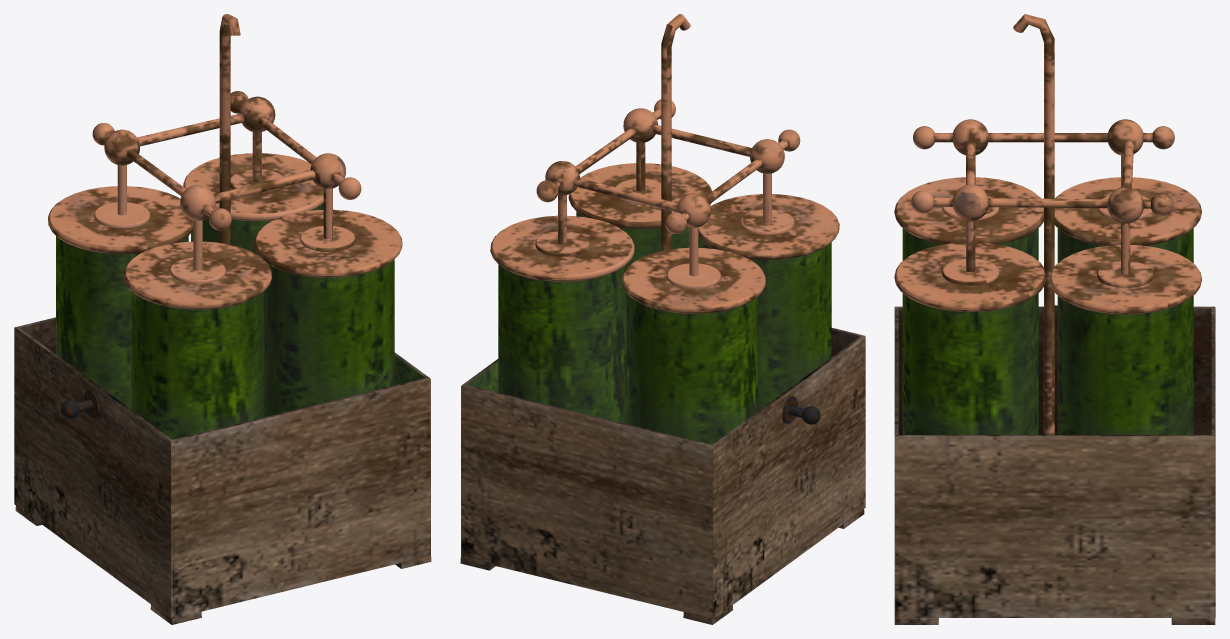
File: eksperyment4.glb
The picture shows the model from 3 angles, left to right: view 1: azimuth 30°, elevation 25°; view 2: azimuth 150°, elevation 25°; view 3: azimuth 270°, elevation 25°; orthographic projection. The views are drawn at different scales.
Visible parts, largest first — view 1: eksperyment4; view 2: eksperyment4; view 3: eksperyment4.
Boxes of the visible parts, box(x1,y1,x2,y2) form: eksperyment4: box(14, 14, 431, 624); eksperyment4: box(460, 14, 865, 624); eksperyment4: box(894, 14, 1215, 624).
Bounding box in the file's own units: 0.25 × 0.4305 × 0.2306.
1 material, 1 textured.
